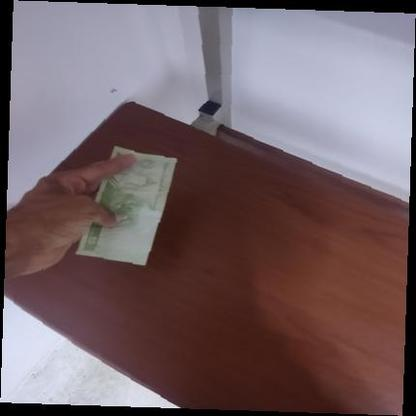fifty-back-vef: (73, 144, 178, 266)
